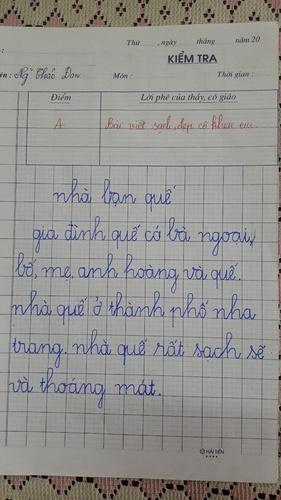text: (11, 328, 267, 370), (9, 288, 257, 331), (32, 213, 258, 259), (12, 251, 242, 296), (6, 366, 162, 412), (52, 177, 177, 214), (104, 112, 259, 136), (0, 65, 82, 89), (139, 91, 237, 104), (166, 49, 217, 66), (214, 69, 250, 79), (231, 34, 261, 45), (156, 37, 179, 48), (49, 92, 72, 103), (111, 71, 130, 81), (195, 37, 216, 46), (52, 117, 65, 130), (126, 38, 141, 48), (205, 448, 226, 455)
